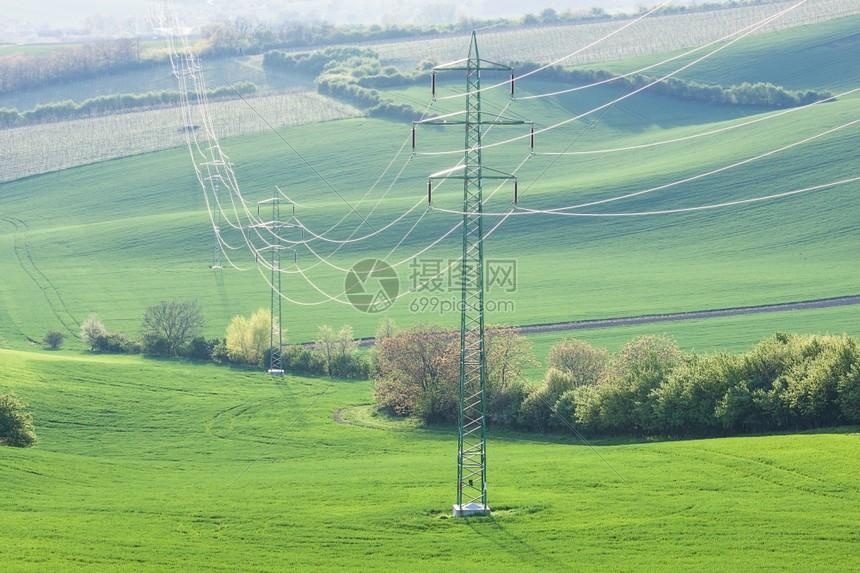power_tower: (413, 23, 539, 518), (248, 181, 309, 388), (197, 140, 234, 278)
